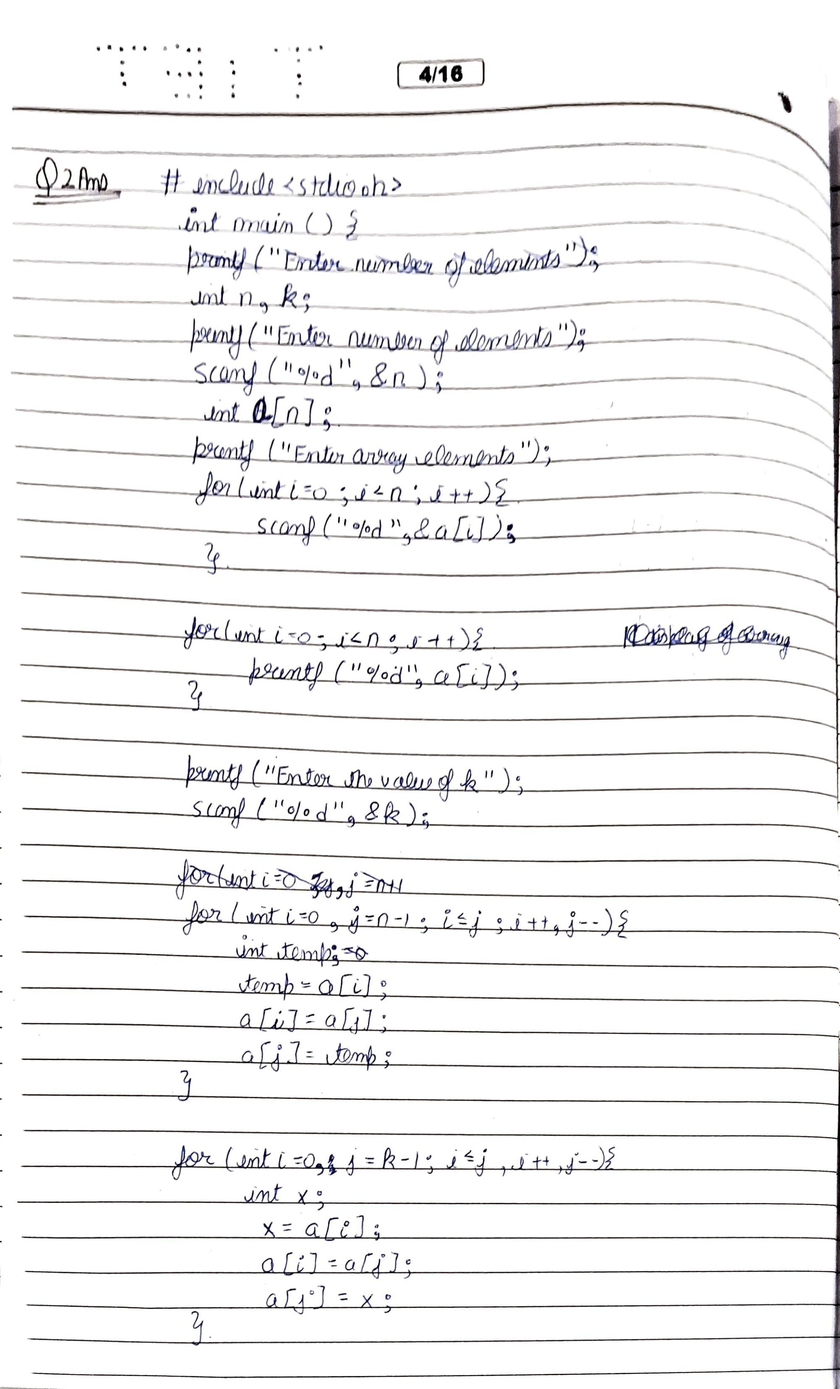cuttings: (187, 234, 601, 290), (174, 861, 404, 901), (623, 620, 793, 662), (342, 945, 368, 960), (327, 1154, 338, 1176)
